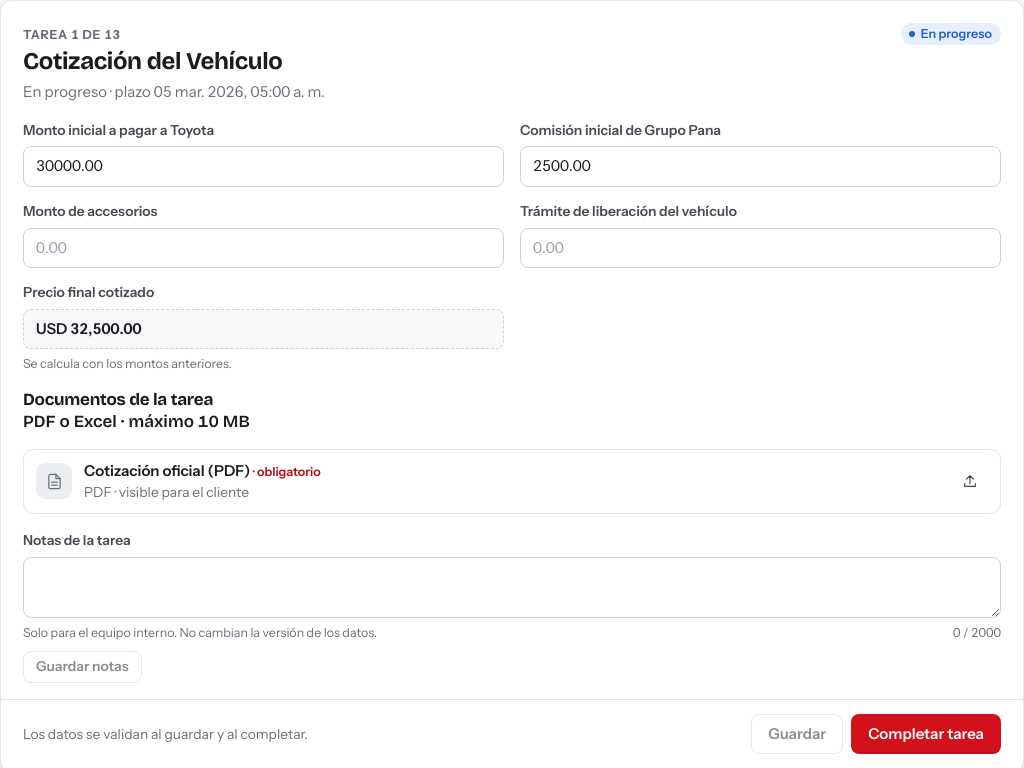
Test: the character counters › count the notes of a task against the server's 2000
The image size is (1024, 768).
Expected: the text "0 / 2000" is shown, [953,624,1001,643]
Type "Llamar" into the text box labelled "Notas de la tarea". click: (512, 587)
box: [23,557,1001,618]
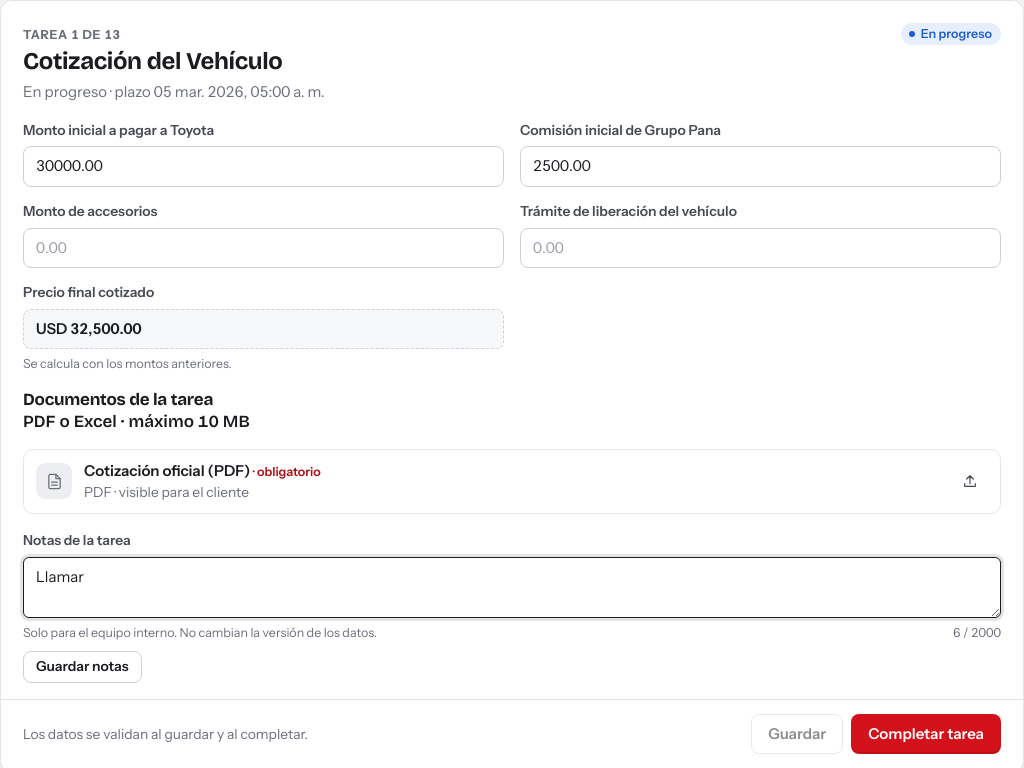
Result: the text "6 / 2000" is shown at [953,624,1001,643]
